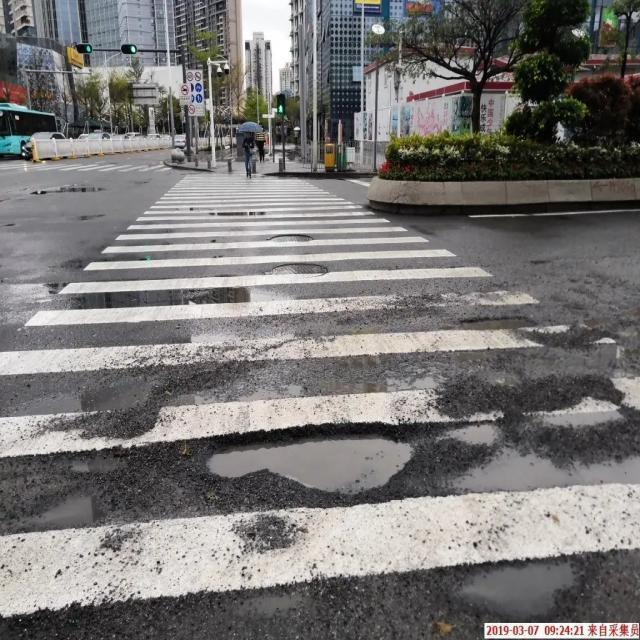pothole: (202, 430, 416, 512)
